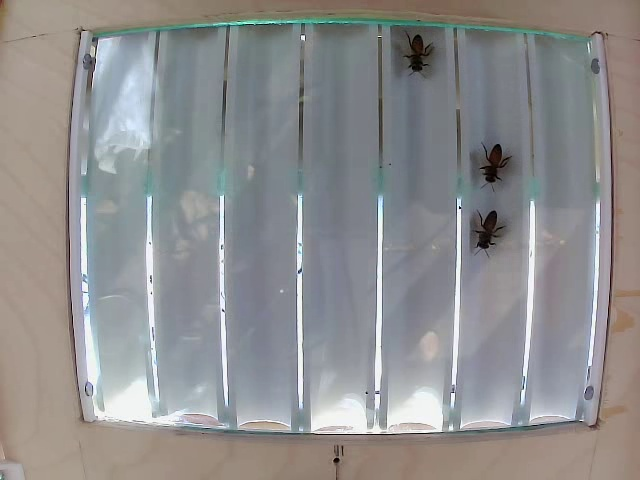bee: (470, 141, 525, 204), (396, 33, 430, 77), (469, 214, 502, 249)
